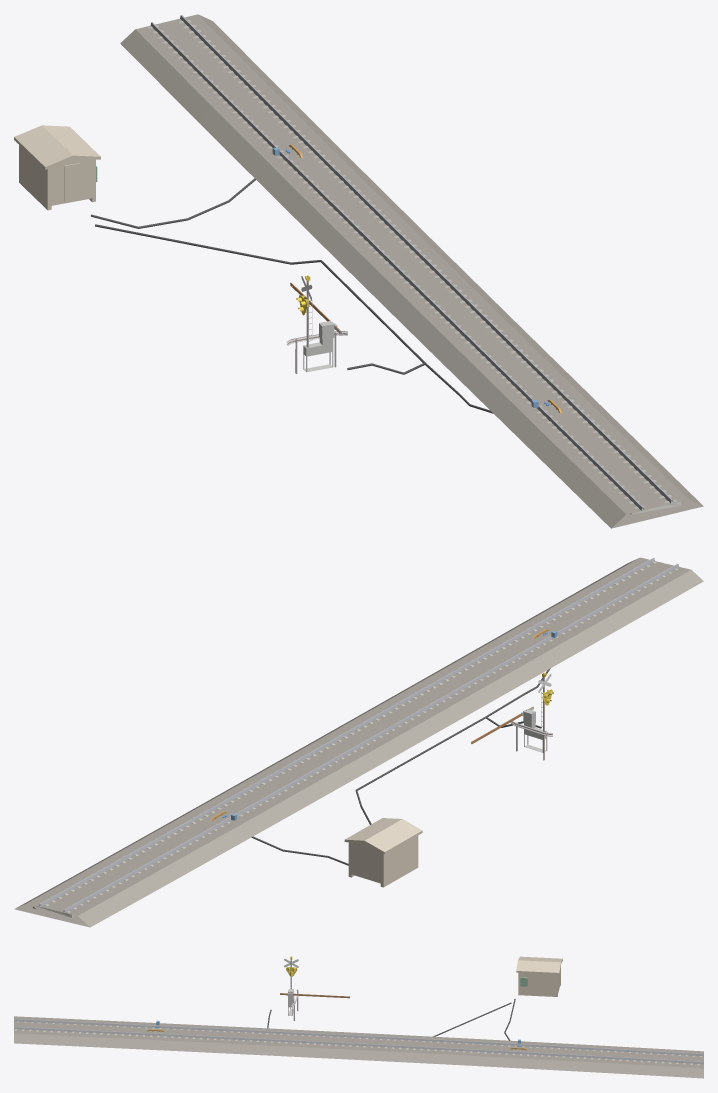
File: rail-level-crossing.glb
3 renders of one model, top to bottom at view 1: azimuth 30°, elevation 25°; view 2: azimuth 150°, elevation 25°; view 3: azimuth 270°, elevation 25°, orthographic. The views are drawn at different scales.
Parts seen in each view (by area): view 1: track|IfcCourse, track|IfcRail, technical-building|IfcBuiltElement, track|IfcTrackElement, cables|IfcCableSegment, signalling|IfcFooting; view 2: track|IfcCourse, track|IfcRail, technical-building|IfcBuiltElement, track|IfcTrackElement, cables|IfcCableSegment; view 3: track|IfcCourse, track|IfcRail, technical-building|IfcBuiltElement, track|IfcTrackElement, cables|IfcCableSegment.
Boxes of the visible parts, x1,y1,x2,y2 form: track|IfcCourse: (120,14,703,528); track|IfcRail: (150,15,673,510); technical-building|IfcBuiltElement: (14,125,100,210); track|IfcTrackElement: (148,20,681,514); cables|IfcCableSegment: (91,178,493,413); signalling|IfcFooting: (303,321,341,372); track|IfcCourse: (14,557,703,927); track|IfcRail: (39,558,678,912); technical-building|IfcBuiltElement: (344,818,422,887); track|IfcTrackElement: (32,560,678,917); cables|IfcCableSegment: (251,668,550,865); track|IfcCourse: (14,1016,703,1078); track|IfcRail: (14,1019,703,1064); technical-building|IfcBuiltElement: (516,956,562,996); track|IfcTrackElement: (14,1021,702,1065); cables|IfcCableSegment: (267,998,515,1040).
Bounding box in the file's own units: 18.24 × 5.41 × 58.77.
